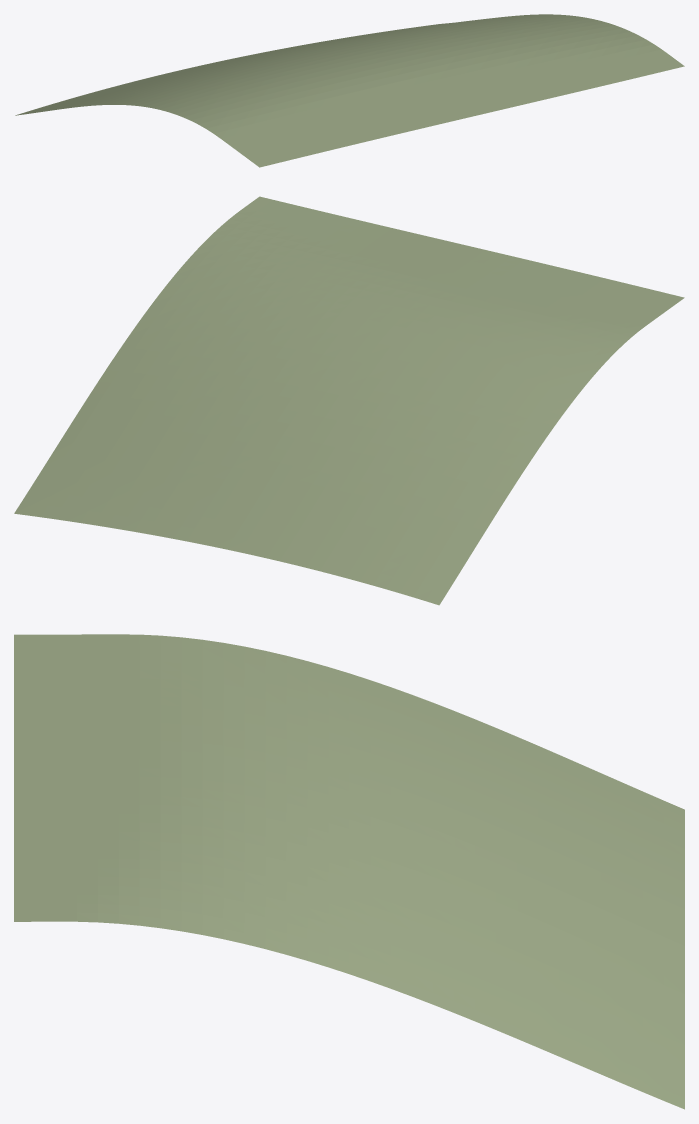
File: desert-26-18.glb
3 renders of one model, top to bottom at view 1: azimuth 30°, elevation 25°; view 2: azimuth 150°, elevation 25°; view 3: azimuth 270°, elevation 25°, orthographic. The views are drawn at different scales.
Parts seen in each view (by area): view 1: desert-26-18; view 2: desert-26-18; view 3: desert-26-18.
Part boxes in pixels (<box>): desert-26-18: <box>15,14,684,167</box>; desert-26-18: <box>14,196,684,605</box>; desert-26-18: <box>14,634,684,1109</box>.
Size of the model in its own units: 512 by 161 by 512.
